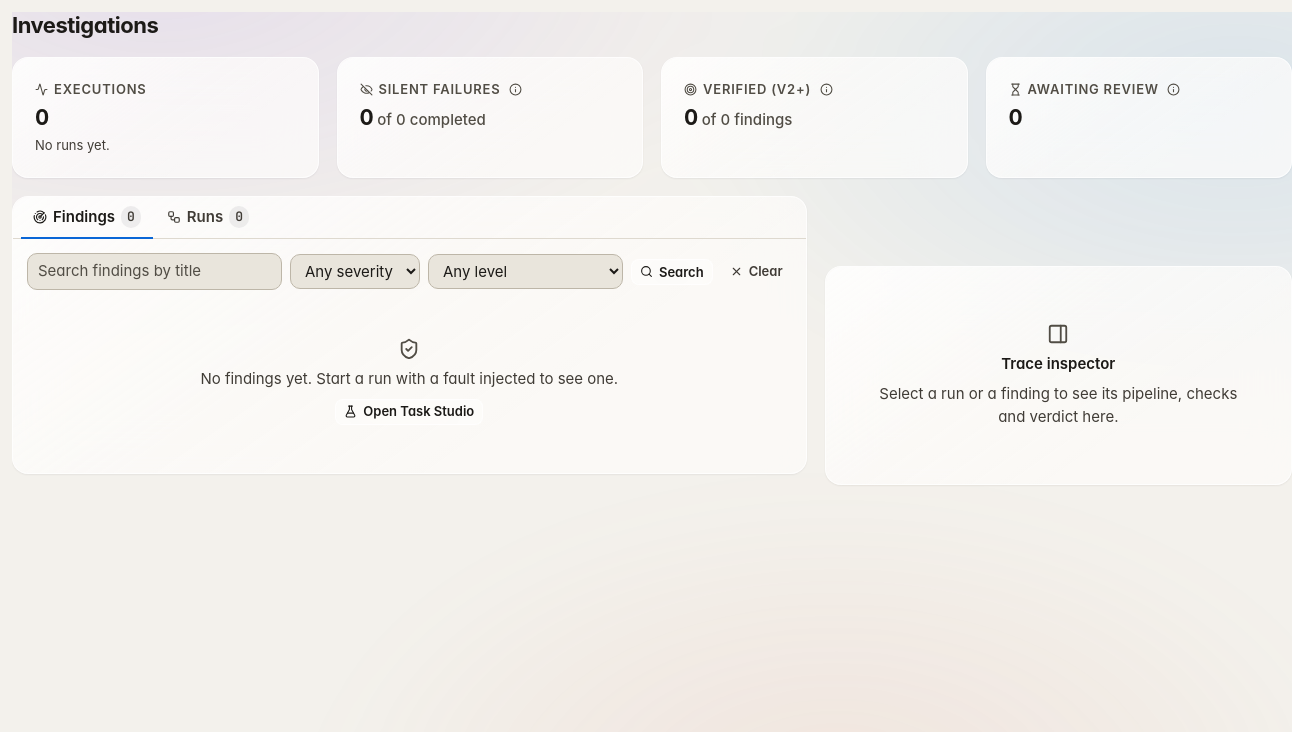
Test case: FR-HIS-01 findings can be searched and filtered › sends the filters to the server and explains an empty result
Check: the text "No findings yet" is shown, box top-left (200, 369), bottom-right (618, 388)
Type "refund" into the search field labelled "Search findings" at [154, 272], box top-left (27, 254), bottom-right (282, 290)
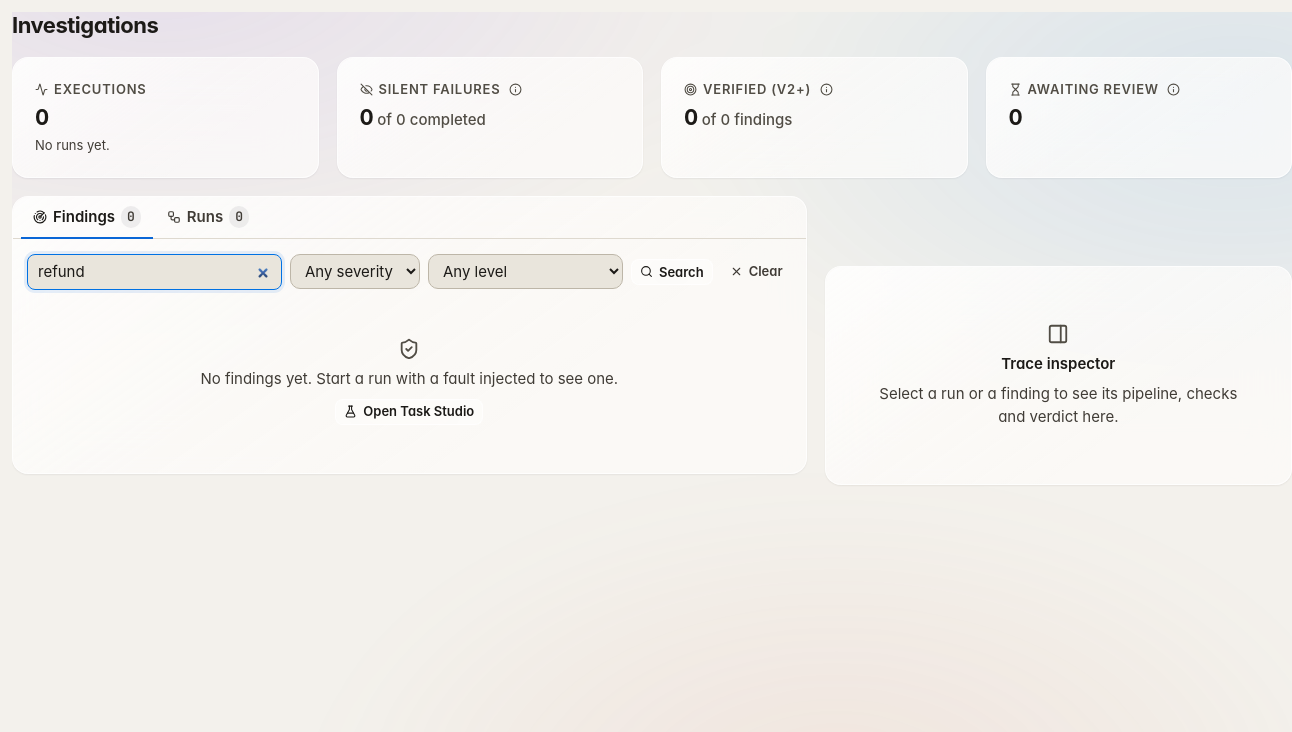
Select "high" in the 1st dropdown named "Severity" at [355, 272], box top-left (290, 254), bottom-right (420, 289)
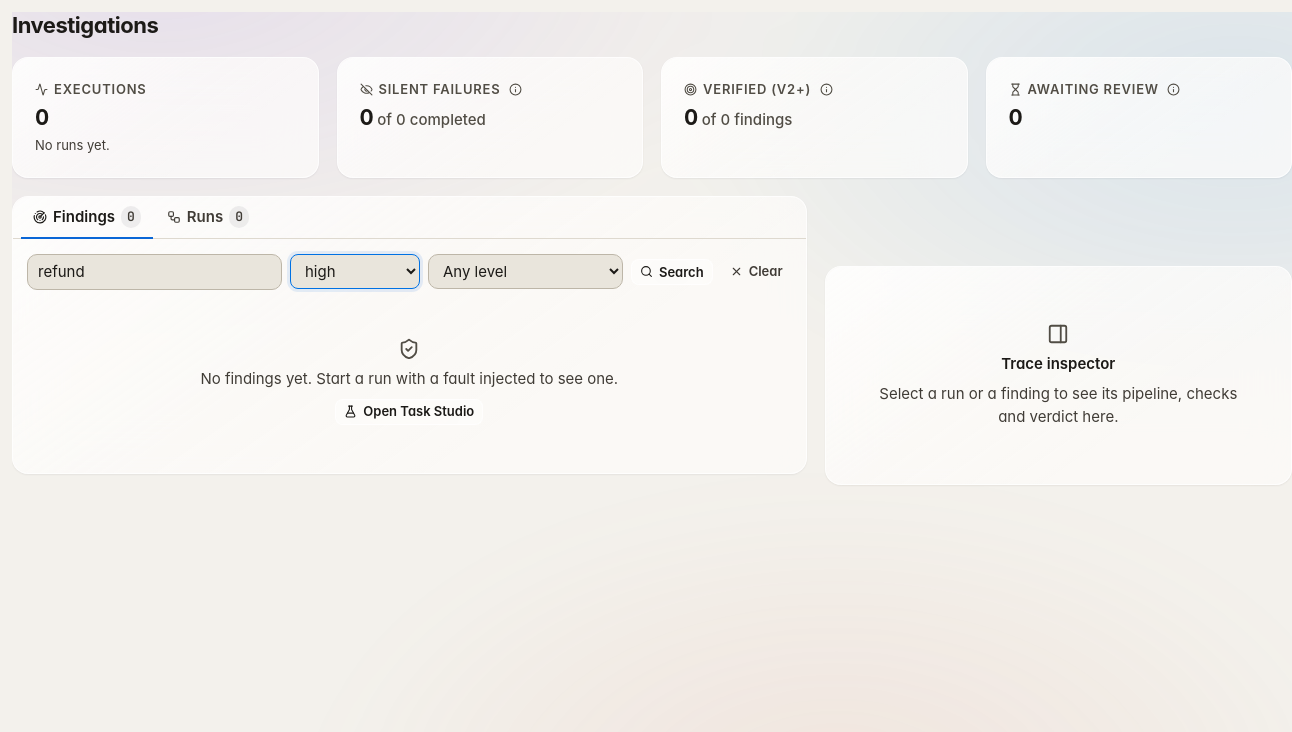
Select "V2 replay-verified" in the 2nd dropdown named "Verification level" at [526, 272], box top-left (428, 254), bottom-right (623, 289)
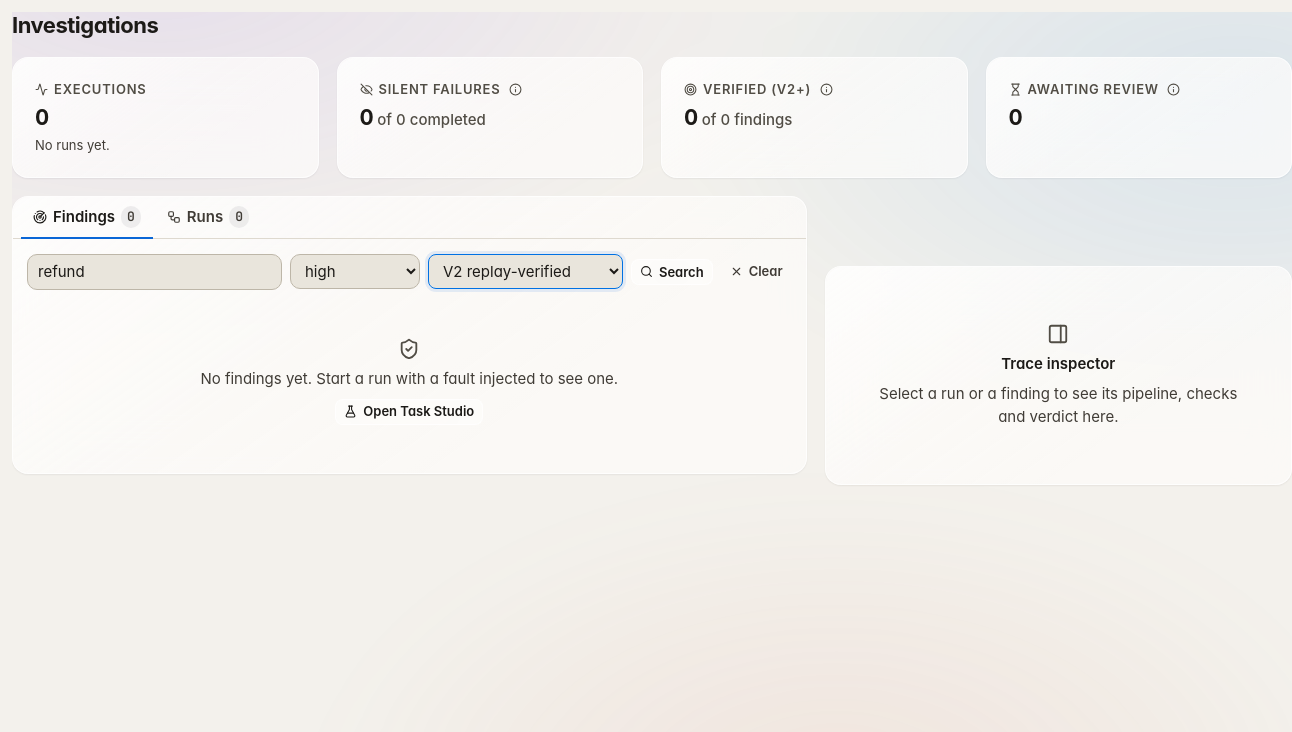
Click the button "Search" at [672, 272], box top-left (631, 259), bottom-right (713, 285)
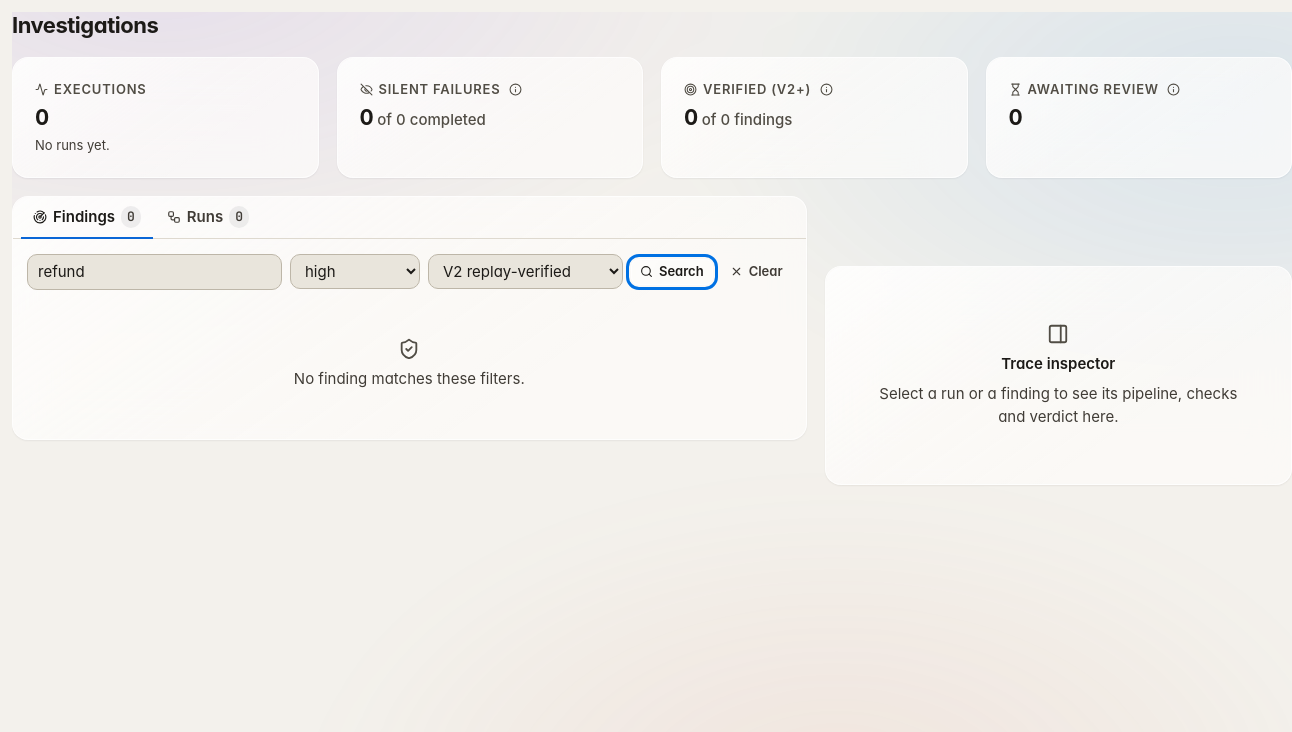
Check: the text "No finding matches these filters." is shown, box top-left (294, 368), bottom-right (525, 390)
